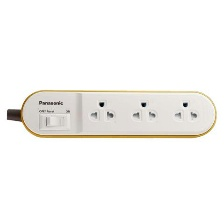three_eye_plug: (17, 87, 218, 140)
